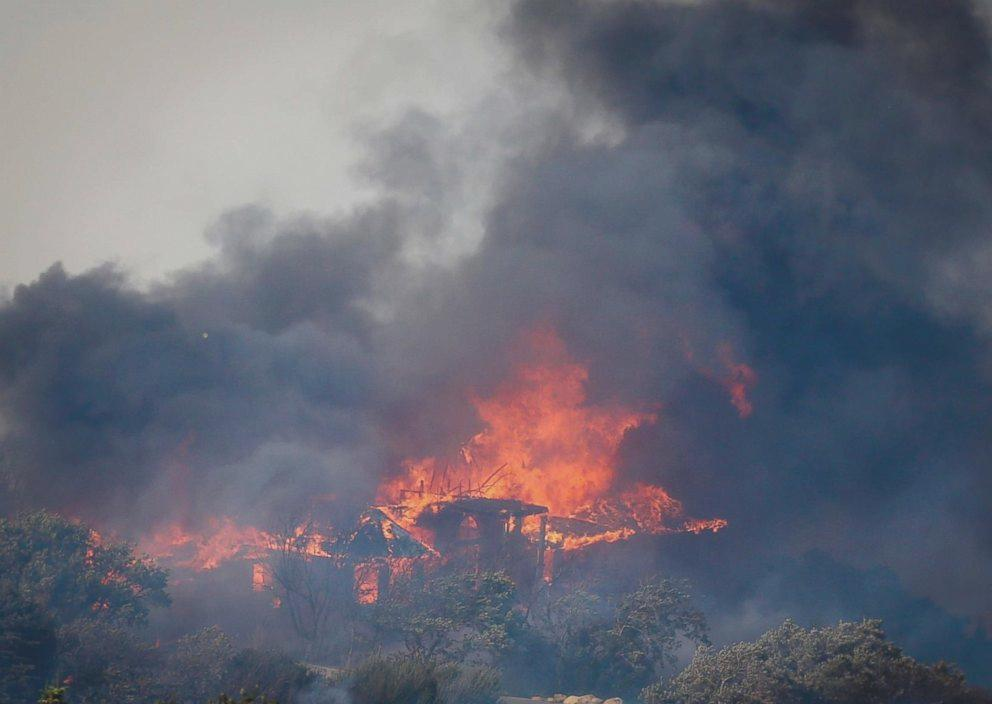Fire: (364, 308, 777, 564), (104, 500, 333, 576)
